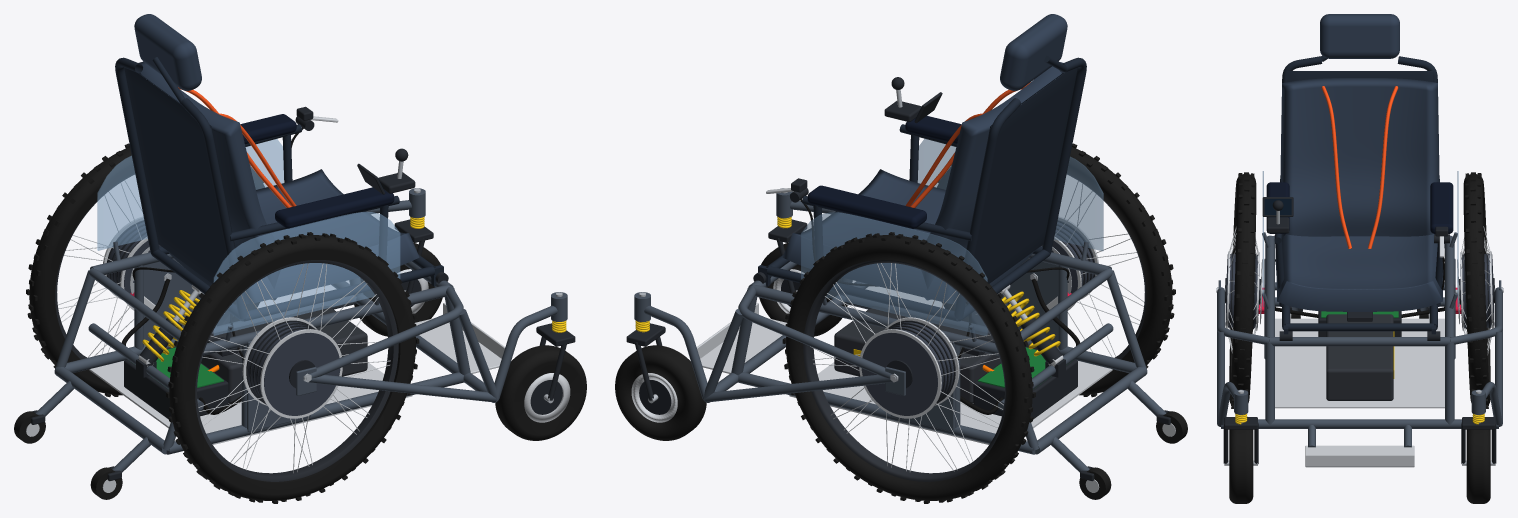
File: wheelchair-assembly.glb
3 renders of one model, left to right at view 1: azimuth 30°, elevation 25°; view 2: azimuth 150°, elevation 25°; view 3: azimuth 270°, elevation 25°, orthographic. The views are drawn at different scales.
Parts seen in each view (by area): view 1: wheels29, seat, frame, guards, casters, electronics, battery, suspension, brakes; view 2: wheels29, seat, frame, guards, casters, electronics, battery, suspension, brakes; view 3: seat, frame, wheels29, casters, battery, electronics, brakes, guards.
Boxes of the visible parts, <box> form: wheels29: <box>26,143,419,503</box>; seat: <box>115,14,443,321</box>; frame: <box>35,188,567,472</box>; guards: <box>97,139,400,335</box>; casters: <box>14,188,586,499</box>; electronics: <box>121,148,415,419</box>; battery: <box>201,306,367,403</box>; suspension: <box>138,285,204,366</box>; brakes: <box>130,106,338,359</box>; wheels29: <box>782,143,1175,503</box>; seat: <box>758,14,1086,321</box>; frame: <box>634,188,1166,472</box>; guards: <box>801,139,1103,335</box>; casters: <box>615,192,1187,499</box>; electronics: <box>884,77,1080,419</box>; battery: <box>834,306,1000,403</box>; suspension: <box>997,285,1063,366</box>; brakes: <box>766,178,1071,359</box>; seat: <box>1266,14,1453,334</box>; frame: <box>1217,232,1502,467</box>; wheels29: <box>1216,172,1503,408</box>; casters: <box>1223,306,1496,503</box>; battery: <box>1326,312,1394,400</box>; electronics: <box>1262,197,1444,336</box>; brakes: <box>1258,226,1461,313</box>; guards: <box>1262,171,1458,306</box>.
Bounding box in the file's own units: 1.38 × 1.24 × 0.8954.
